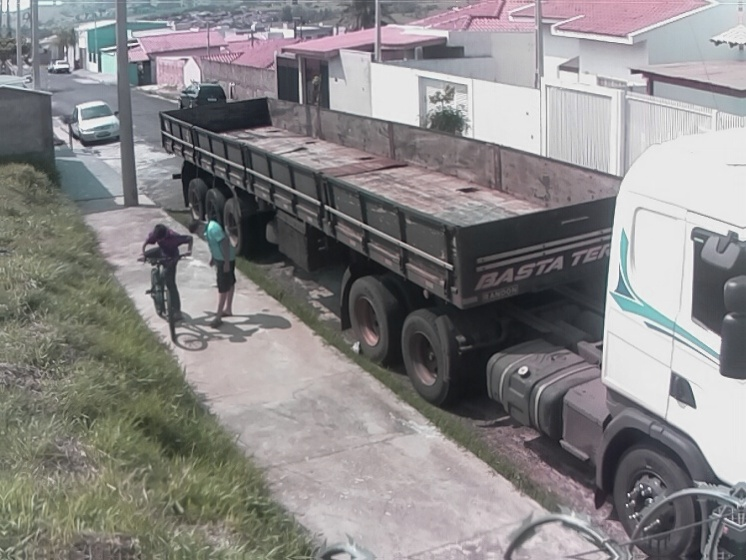person: (185, 215, 242, 333), (141, 222, 195, 326)
